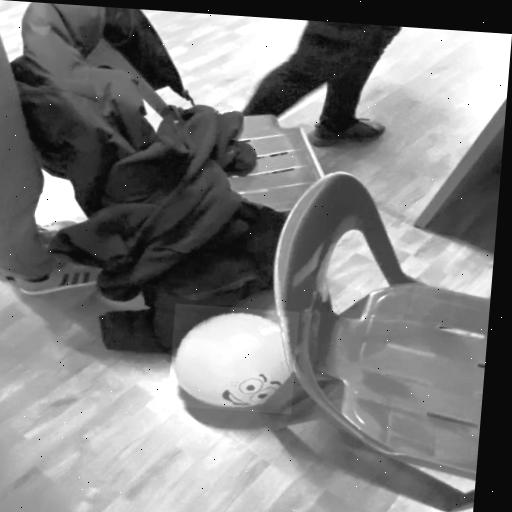balloon: (167, 304, 299, 415)
